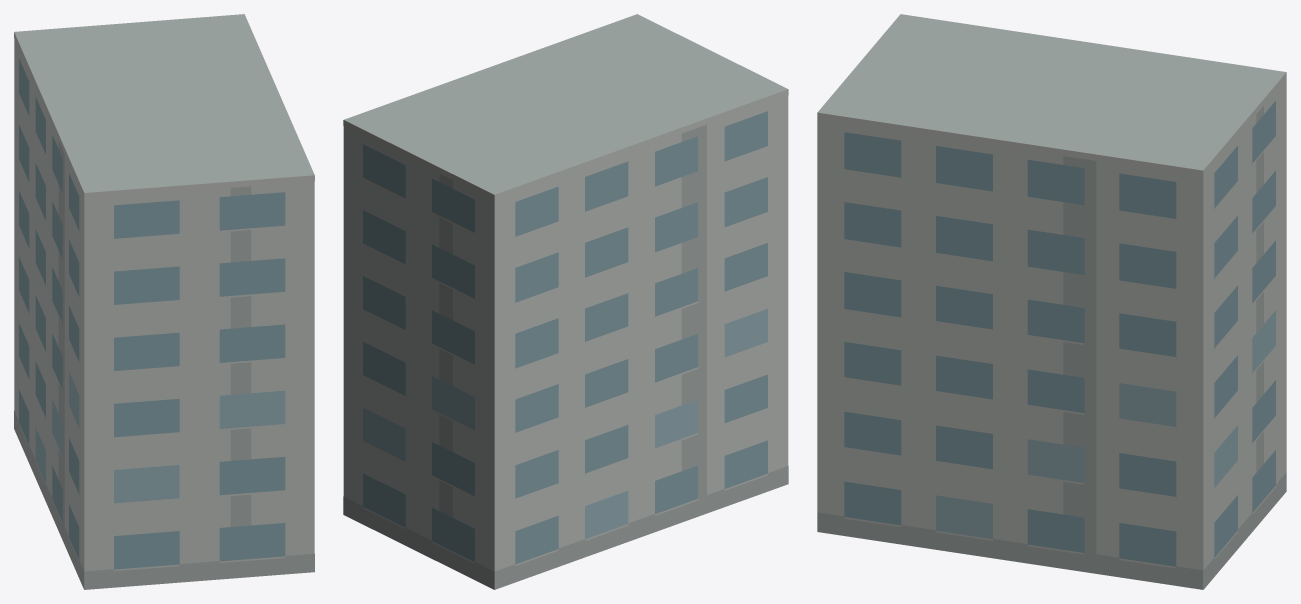
The model's file is survey-upis-32971662.glb.
3 views of the same model, side by side, from view 1: azimuth 30°, elevation 25°; view 2: azimuth 150°, elevation 25°; view 3: azimuth 270°, elevation 25° (orthographic). The views are drawn at different scales.
Visible parts, largest first — view 1: survey-upis-32971662.tmp; view 2: survey-upis-32971662.tmp; view 3: survey-upis-32971662.tmp.
Part boxes in pixels (x1,y1,x2,y2): survey-upis-32971662.tmp: (14, 14, 314, 589); survey-upis-32971662.tmp: (343, 14, 788, 589); survey-upis-32971662.tmp: (817, 14, 1286, 589).
Bounding box in the file's own units: 12.58 × 15.7 × 15.93.
